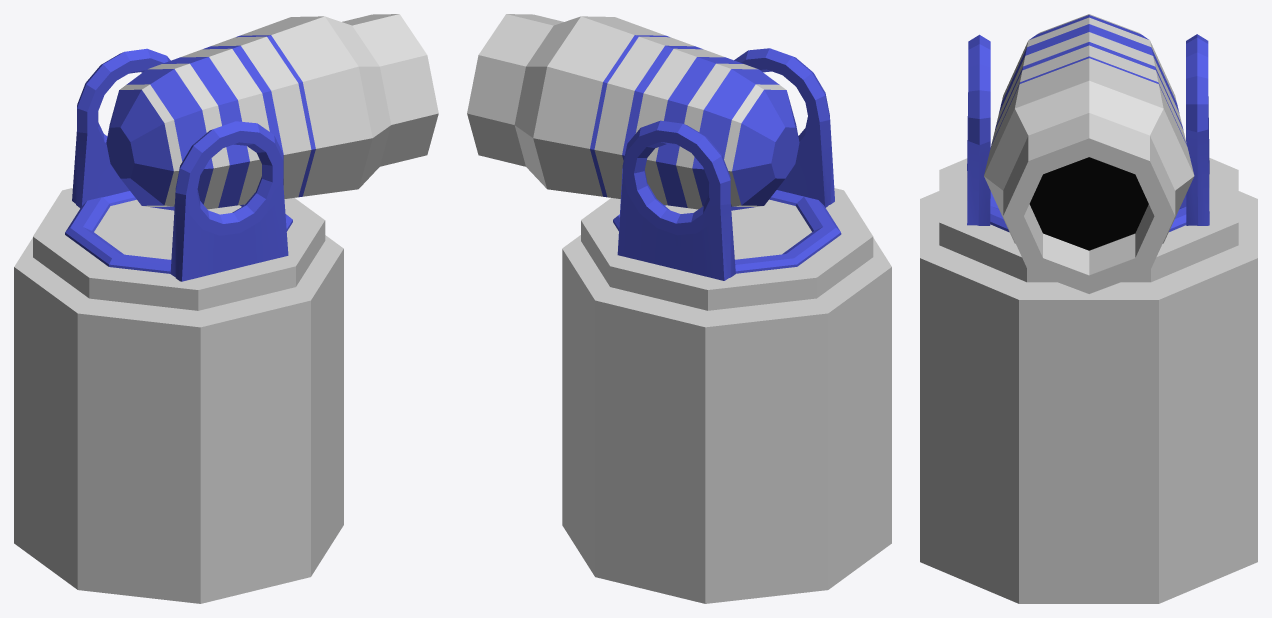
The model's file is Balear.fbx.
The picture shows the model from 3 angles, left to right: view 1: azimuth 30°, elevation 25°; view 2: azimuth 150°, elevation 25°; view 3: azimuth 270°, elevation 25°; orthographic projection. The views are drawn at different scales.
Visible parts, largest first — view 1: Cilindro, Cilindro.002, Cilindro.003, Rosca.001, Rosca.002, Cilindro.001; view 2: Cilindro, Cilindro.002, Cilindro.003, Rosca.002, Rosca.001, Cilindro.001; view 3: Cilindro, Cilindro.002, Cilindro.003, Rosca.001, Rosca.002, Cilindro.001.
Boxes of the visible parts, x1,y1,x2,y2 form: Cilindro: (14,235,343,603); Cilindro.002: (106,14,438,210); Cilindro.003: (33,188,325,310); Rosca.001: (170,121,288,281); Rosca.002: (72,48,170,208); Cilindro.001: (65,191,292,273); Cilindro: (562,235,891,603); Cilindro.002: (467,14,799,210); Cilindro.003: (581,188,873,310); Rosca.002: (617,120,735,280); Rosca.001: (734,48,834,207); Cilindro.001: (613,190,841,273); Cilindro: (920,191,1257,603); Cilindro.002: (984,14,1194,293); Cilindro.003: (939,158,1238,282); Rosca.001: (967,34,990,225); Rosca.002: (1186,34,1209,225); Cilindro.001: (990,191,1186,232).
Bounding box in the file's own units: 2.88 × 4.99 × 3.83.
